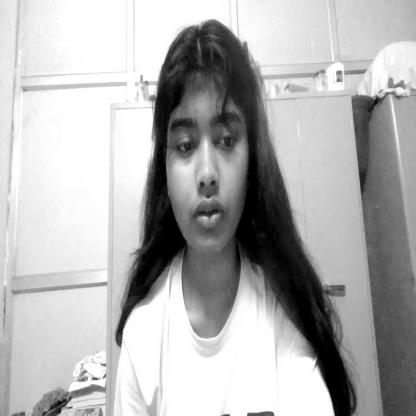Normal: (153, 20, 260, 261)
